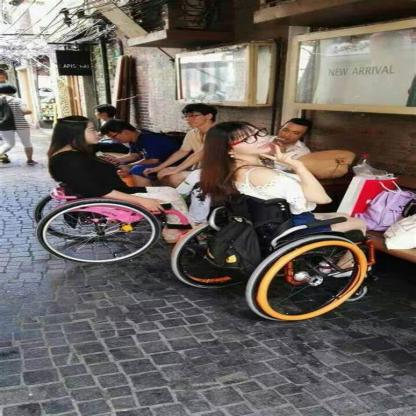wheelchair: (173, 119, 381, 328), (33, 115, 193, 266)
